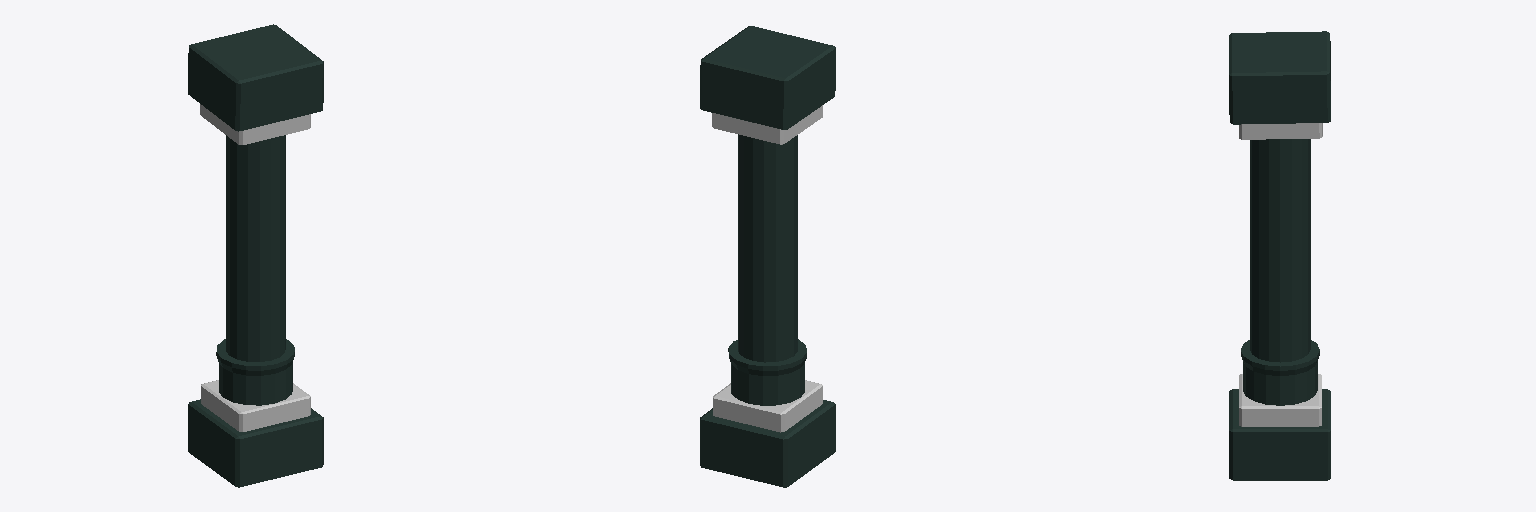
File: pillar2A(F186).obj
3 renders of one model, left to right at view 1: azimuth 30°, elevation 25°; view 2: azimuth 150°, elevation 25°; view 3: azimuth 270°, elevation 25°, orthographic.
Parts seen in each view (by area): view 1: Cylinder, Cube.002, Cube, Cube.001, Cube.003; view 2: Cylinder, Cube.002, Cube, Cube.001, Cube.003; view 3: Cylinder, Cube.002, Cube, Cube.001, Cube.003.
Part boxes in pixels (x1,y1,x2,y2): Cylinder: (216, 135, 294, 405); Cube.002: (188, 24, 323, 131); Cube: (188, 399, 323, 487); Cube.001: (201, 380, 310, 431); Cube.003: (200, 104, 310, 144); Cylinder: (728, 134, 806, 405); Cube.002: (700, 26, 835, 129); Cube: (700, 400, 835, 487); Cube.001: (713, 380, 822, 432); Cube.003: (712, 105, 822, 144); Cylinder: (1241, 139, 1319, 405); Cube.002: (1229, 31, 1330, 124); Cube: (1229, 389, 1330, 480); Cube.001: (1239, 374, 1321, 426); Cube.003: (1239, 123, 1322, 139).
Size of the model in its own units: 1.03 by 4.59 by 1.04.